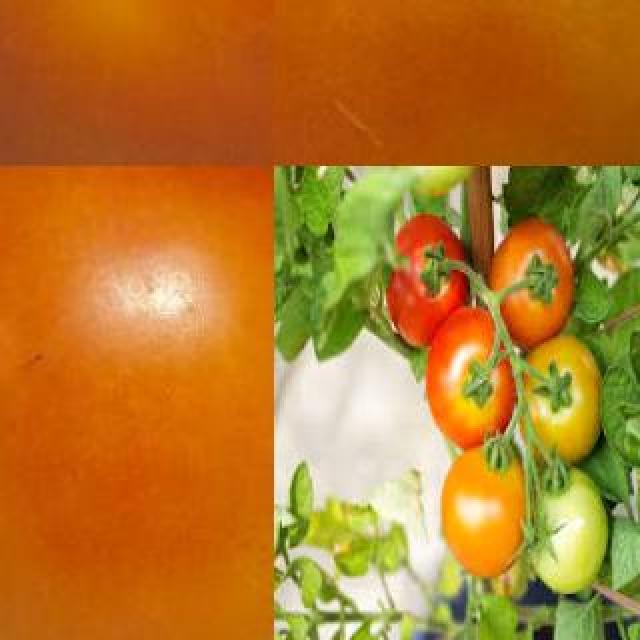Fresh_Tomato: (0, 166, 274, 640), (274, 0, 640, 166), (0, 0, 274, 166), (370, 206, 476, 354), (440, 438, 532, 580), (426, 308, 514, 450), (492, 224, 580, 334), (524, 338, 598, 460)
